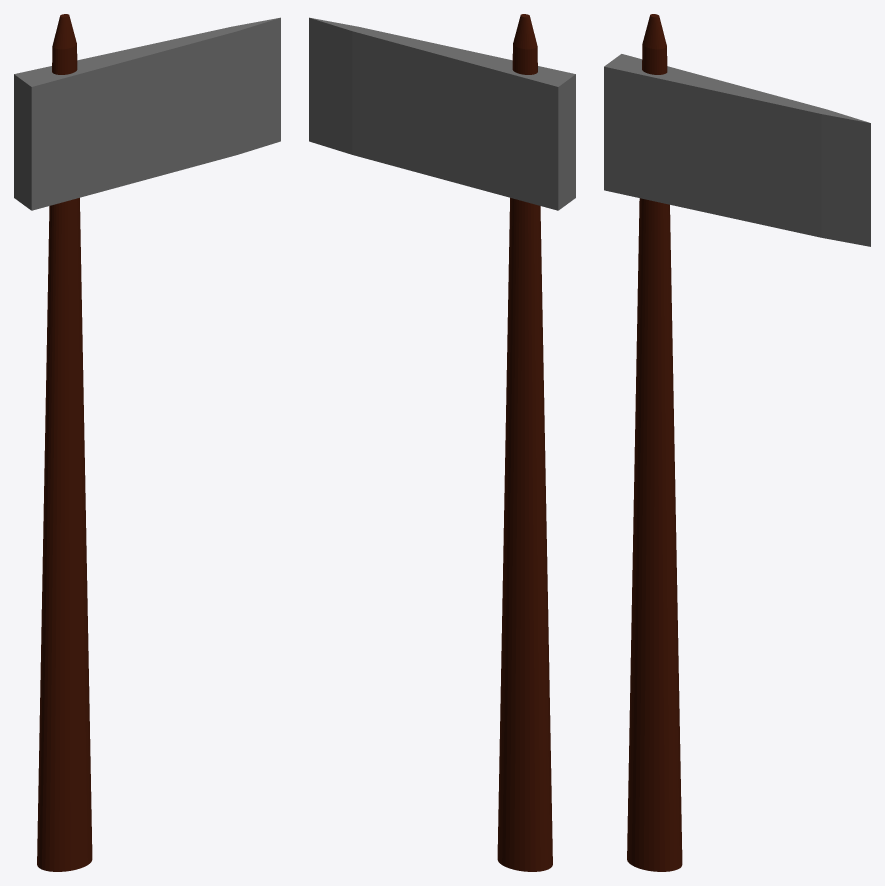
Rendered from Axe.fbx.
3 views of the same model, side by side, from view 1: azimuth 30°, elevation 25°; view 2: azimuth 150°, elevation 25°; view 3: azimuth 330°, elevation 25° (orthographic).
Parts seen in each view (by area): view 1: Cube, Handle; view 2: Cube, Handle; view 3: Cube, Handle.
Boxes of the visible parts, x1,y1,x2,y2 form: Cube: (14, 17, 280, 210); Handle: (37, 14, 92, 871); Cube: (309, 17, 575, 210); Handle: (497, 14, 552, 871); Cube: (604, 54, 870, 246); Handle: (627, 14, 682, 871).
Size of the model in its own units: 244 by 764 by 35.64.
